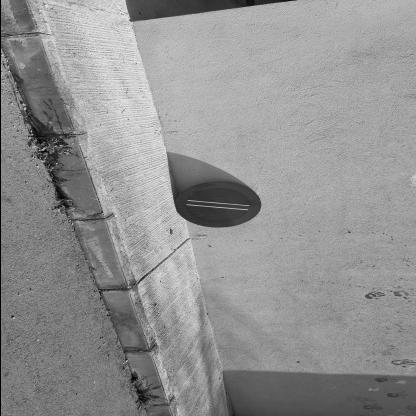No Waiting: (174, 183, 262, 229)
